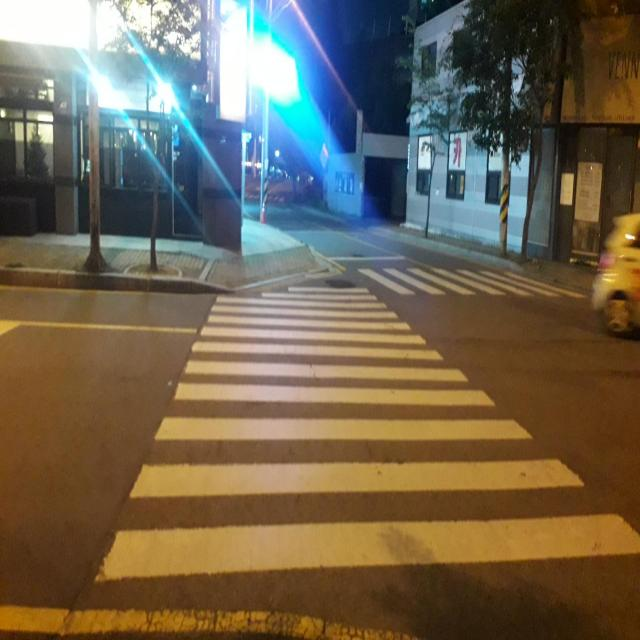횡단보도: (92, 284, 640, 586), (336, 262, 573, 299)
